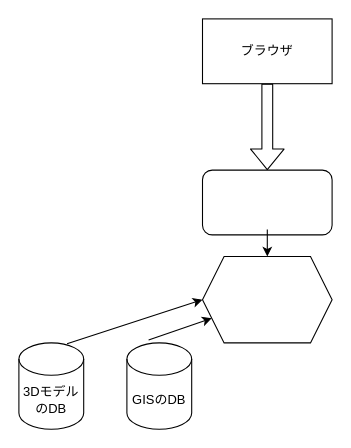
The diagram is 351 pixels wide and 448 high, and some of its shapes have lost their labels. The box of each missing label's shape, as (x1, y1, x2, y2) in pixels:
処理部: (201, 255, 332, 343)
受付サーバ: (201, 169, 332, 235)
